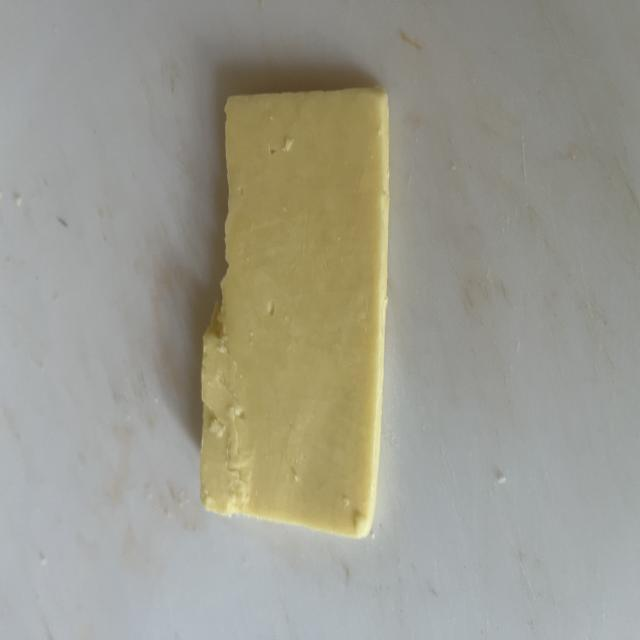cheese: (200, 88, 389, 538)
